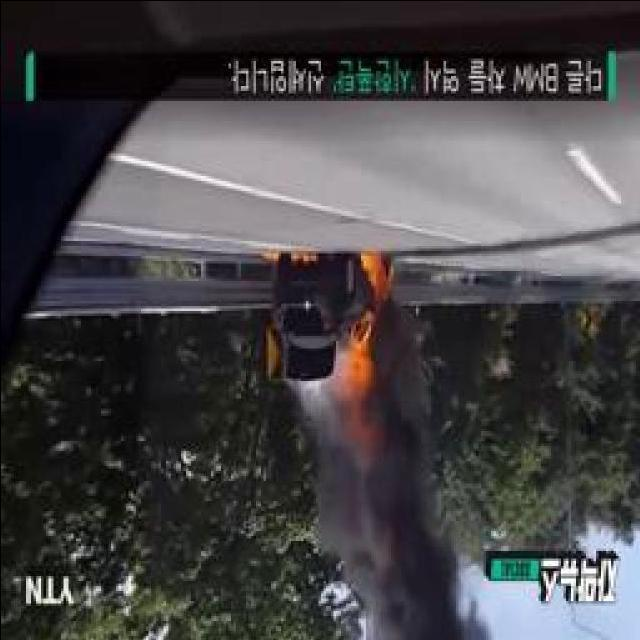Fire: (355, 254, 390, 301), (341, 336, 373, 382)
